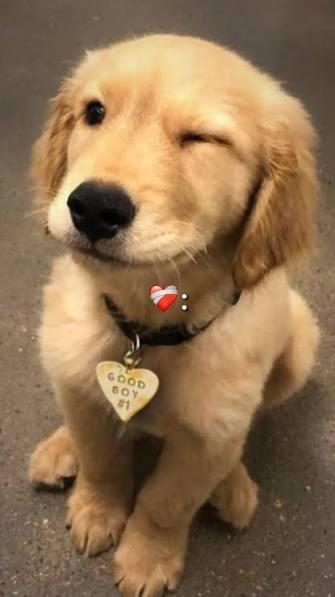puppy-dog: (24, 31, 325, 597)
